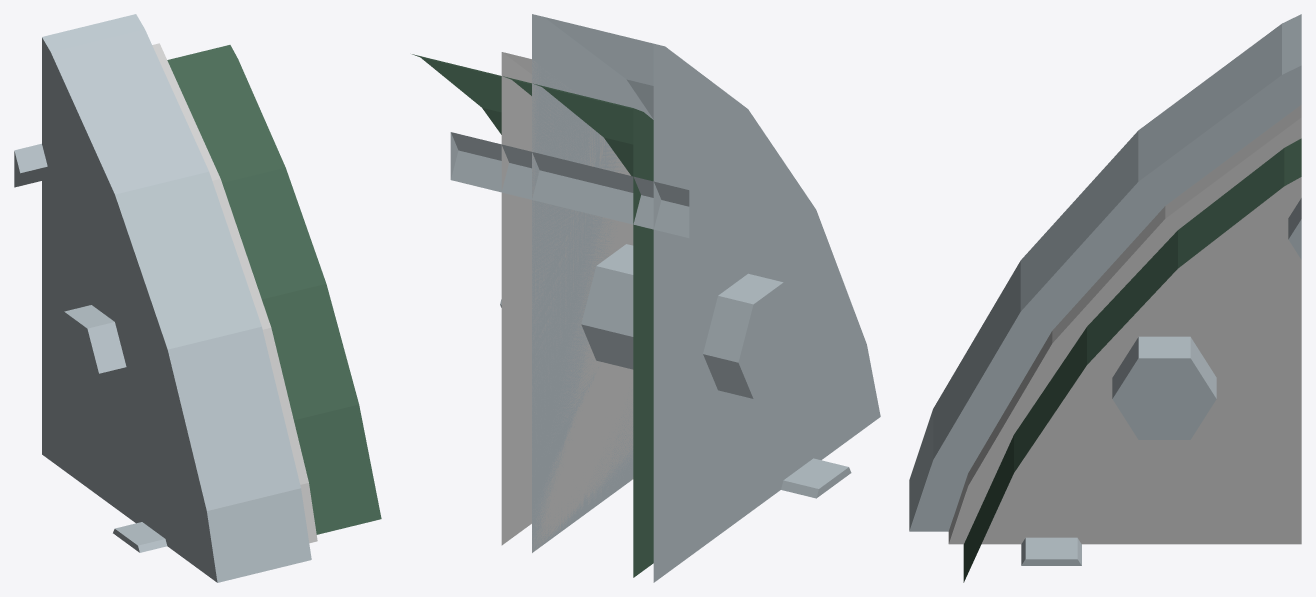
File: cell_65.obj
The picture shows the model from 3 angles, left to right: view 1: azimuth 30°, elevation 25°; view 2: azimuth 150°, elevation 25°; view 3: azimuth 270°, elevation 25°; orthographic projection. The views are drawn at different scales.
Size of the model in its own units: 0.275 by 0.5078 by 0.3874.
